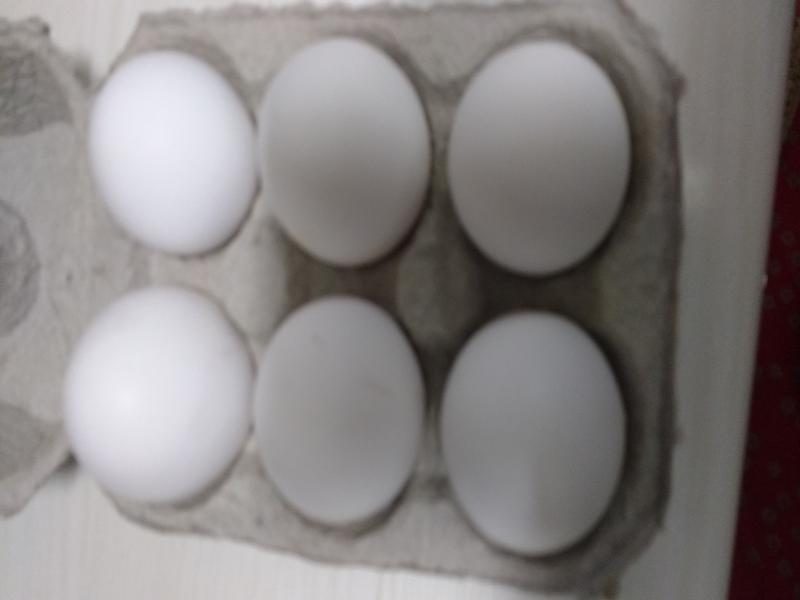egg: (252, 298, 407, 532)
